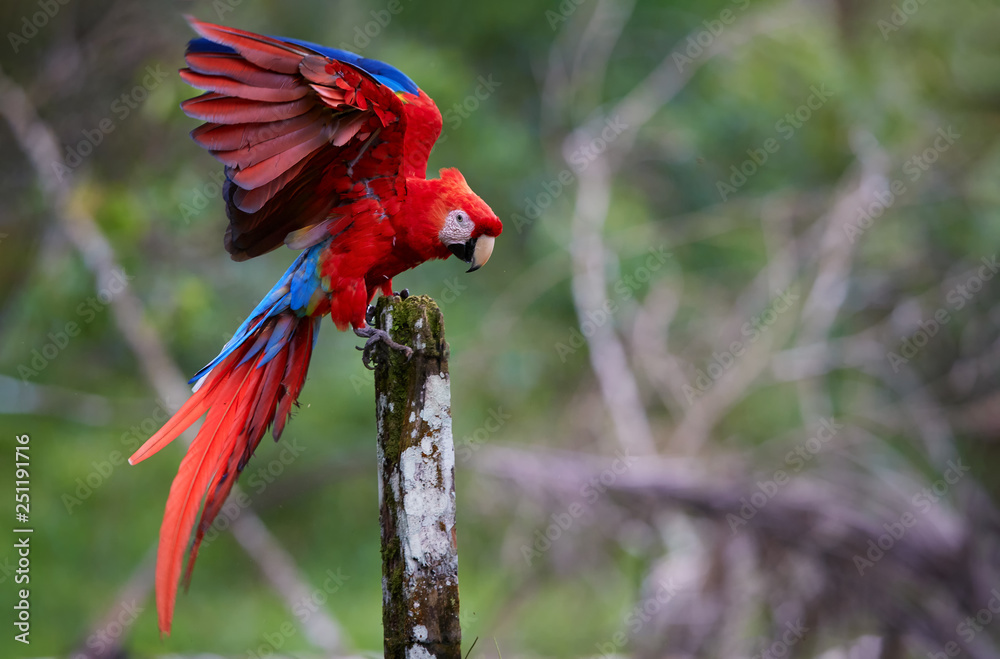Lapa: (106, 7, 538, 630)
